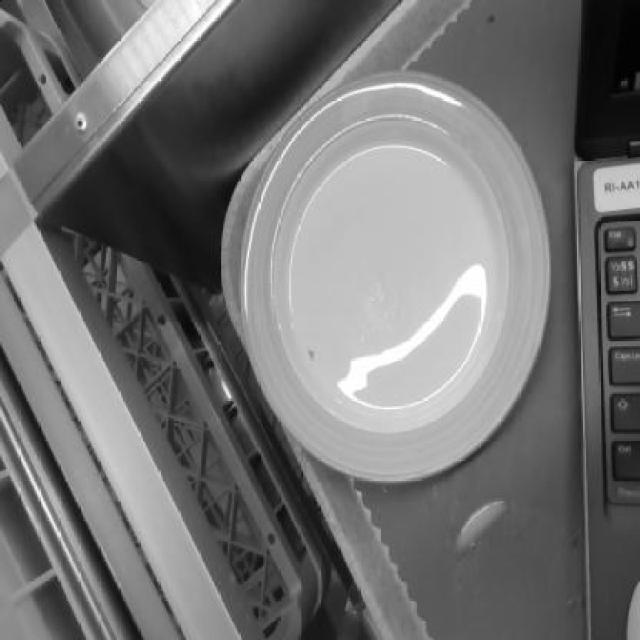plate: (245, 69, 550, 486)
